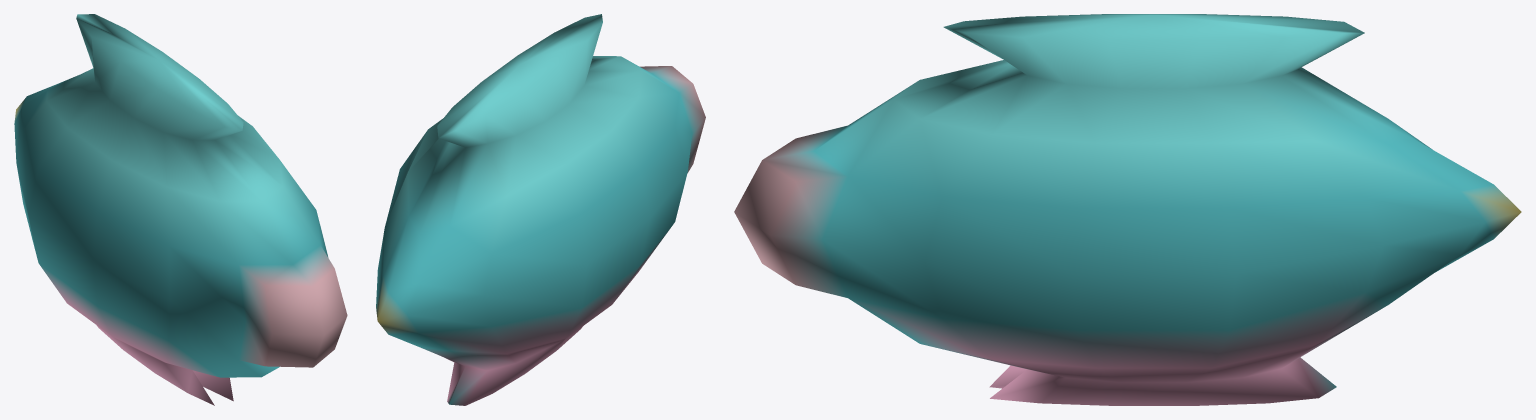
File: parrotfish.glb
The picture shows the model from 3 angles, left to right: view 1: azimuth 30°, elevation 25°; view 2: azimuth 150°, elevation 25°; view 3: azimuth 270°, elevation 25°; orthographic projection. The views are drawn at different scales.
Parts seen in each view (by area): view 1: parrotfish; view 2: parrotfish; view 3: parrotfish.
Boxes of the visible parts, box(x1,y1,x2,y2) form: parrotfish: box(14, 14, 347, 405); parrotfish: box(376, 14, 705, 405); parrotfish: box(734, 14, 1521, 405).
Size of the model in its own units: 0.1404 by 0.206 by 0.377.
